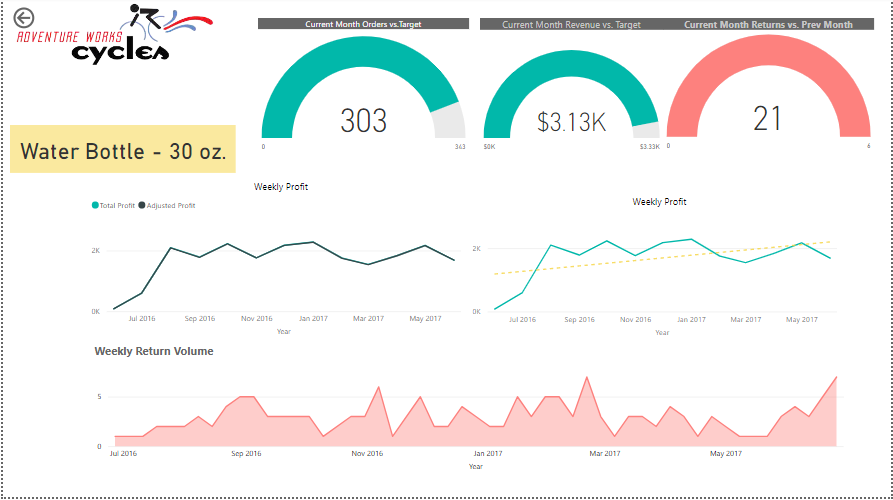

Layout of this report page (visuals, bound fields, positions):
{"tool":"powerbi","page":{"name":"Page 2","canvas":[1280,720],"ordinal":1},"visuals":[{"type":"image","box":[0,0,325.5,108.9],"z":0},{"type":"actionButton","box":[10,10,100,40],"z":7},{"type":"card","fields":{"Values":["Min(AdventureWorks_Products.ProductName)"]},"box":[10.1,184.3,325.4,69.1],"z":8},{"type":"gauge","title":"Current Month Orders vs.Target","fields":{"Y":["AdventureWorks_Sales.Total Orders"],"MaxValue":["AdventureWorks_Sales.Order Target"]},"box":[367.2,30.2,303.8,204.5],"z":9},{"type":"gauge","title":"Current Month Revenue vs. Target","fields":{"Y":["AdventureWorks_Sales.Total Revenuek"],"MaxValue":["AdventureWorks_Sales.Revenue Target"]},"box":[686.9,30.2,263.5,223.2],"z":10},{"type":"gauge","title":"Current Month Returns vs. Prev Month","fields":{"Y":["AdventureWorks_Returns.Total Returns"],"MaxValue":["AdventureWorks_Returns.Prev Month Returns"]},"box":[950.4,30.2,303.8,198.7],"z":11},{"type":"lineChart","title":"Weekly Profit","fields":{"Y":["AdventureWorks_Sales.Total Profit","AdventureWorks_Sales.Adjusted Profit"],"Category":["AdventureWorks_Calendar.Start of Week.Variation.Date Hierarchy.Year","AdventureWorks_Calendar.Start of Week.Variation.Date Hierarchy.Month","AdventureWorks_Calendar.Start of Week.Variation.Date Hierarchy.Day"]},"box":[122.4,263.5,555.8,230.4],"z":12},{"type":"lineChart","title":"Weekly Profit","fields":{"Y":["AdventureWorks_Sales.Total Profit"],"Category":["AdventureWorks_Calendar.Start of Week.Variation.Date Hierarchy.Year","AdventureWorks_Calendar.Start of Week.Variation.Date Hierarchy.Month","AdventureWorks_Calendar.Start of Week.Variation.Date Hierarchy.Day"]},"box":[671,285.1,548.6,208.8],"z":13},{"type":"stackedAreaChart","title":"Weekly Return Volume","fields":{"Category":["AdventureWorks_Calendar.Start of Week.Variation.Date Hierarchy.Year","AdventureWorks_Calendar.Start of Week.Variation.Date Hierarchy.Month","AdventureWorks_Calendar.Start of Week.Variation.Date Hierarchy.Day"],"Y":["AdventureWorks_Returns.Total Returns"]},"box":[122.4,493.9,1108.8,195.8],"z":14}]}

Visuals, with their boxes in screenshot pixels (x1, y1, x2, y2), scaled from the page's 1280x720 canvas onto the 893x500 screenshot:
image: [left=0, top=0, right=227, bottom=76]
actionButton: [left=7, top=7, right=77, bottom=35]
card - Min(AdventureWorks_Products.ProductName): [left=7, top=128, right=234, bottom=176]
"Current Month Orders vs.Target" gauge: [left=256, top=21, right=468, bottom=163]
"Current Month Revenue vs. Target" gauge: [left=479, top=21, right=663, bottom=176]
"Current Month Returns vs. Prev Month" gauge: [left=663, top=21, right=875, bottom=159]
"Weekly Profit" lineChart: [left=85, top=183, right=473, bottom=343]
"Weekly Profit" lineChart: [left=468, top=198, right=851, bottom=343]
"Weekly Return Volume" stackedAreaChart: [left=85, top=343, right=859, bottom=479]
